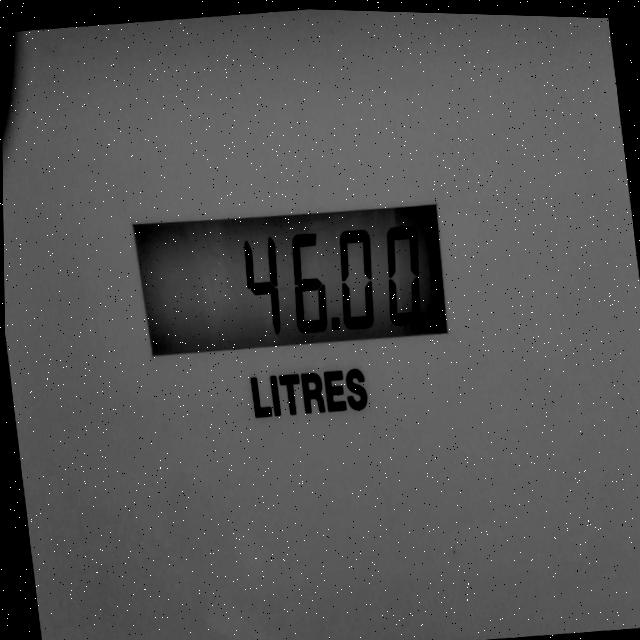.: (325, 307, 343, 339)
0: (379, 219, 433, 334), (328, 216, 379, 335)
4: (225, 221, 290, 338)
6: (282, 223, 334, 339)
